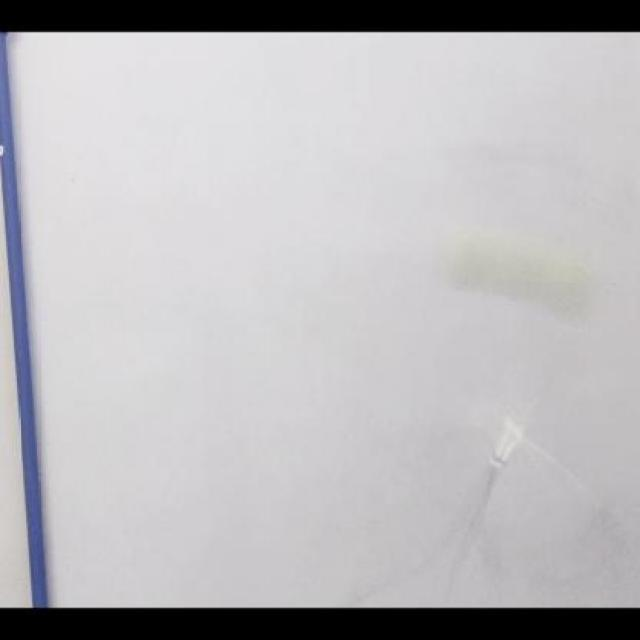baseball: (438, 214, 602, 321)
